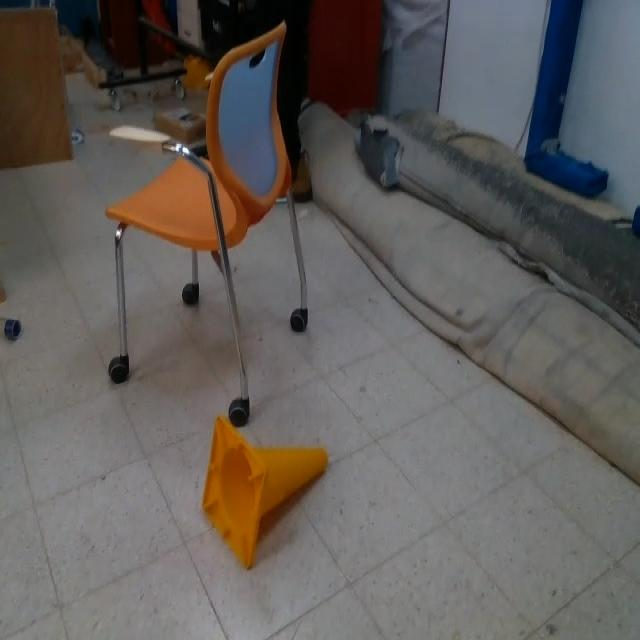cone: (203, 412, 328, 569)
